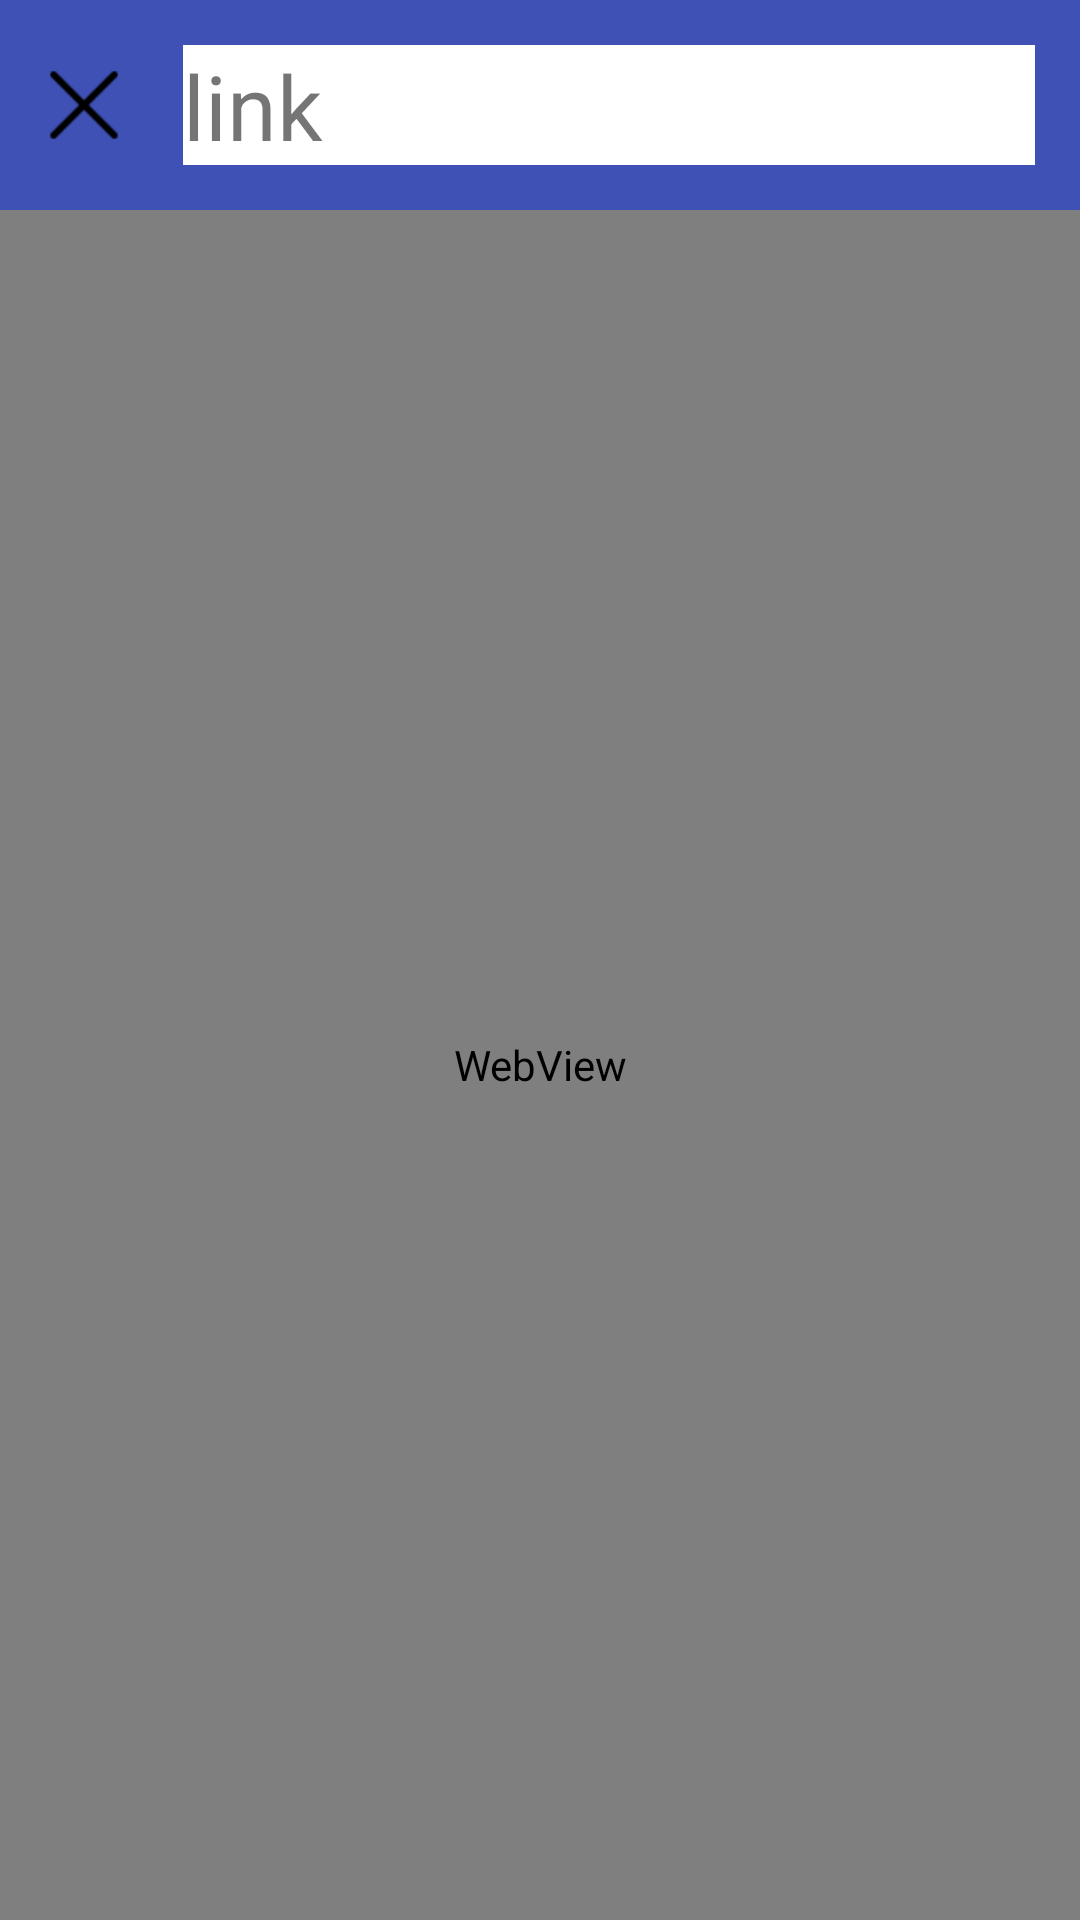

Screen size 1080*1920. Icon name, then its center in pixels as (x=x, y=y):
close: (x=84, y=105)
